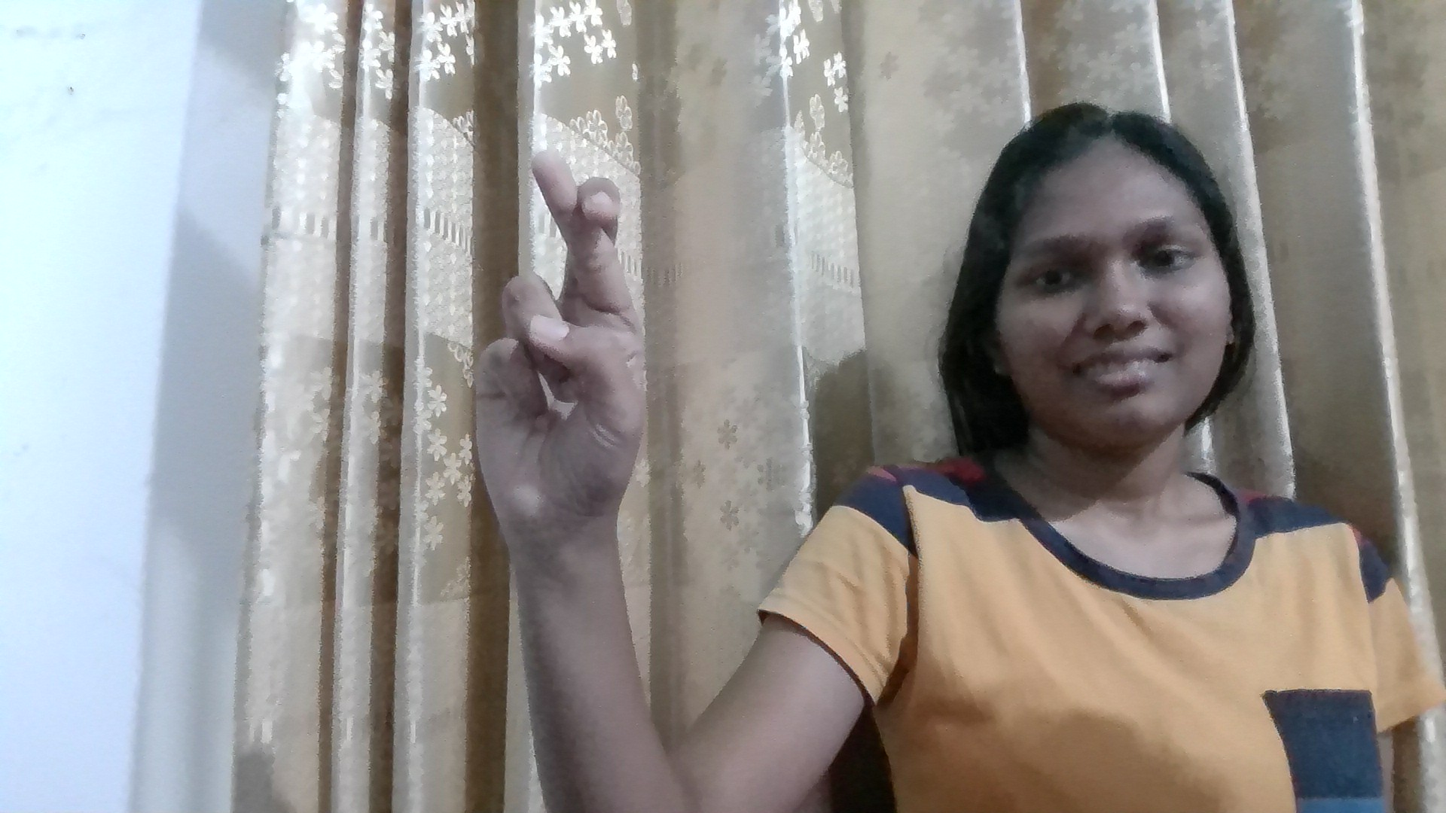Good_Luck: (311, 81, 753, 582)
